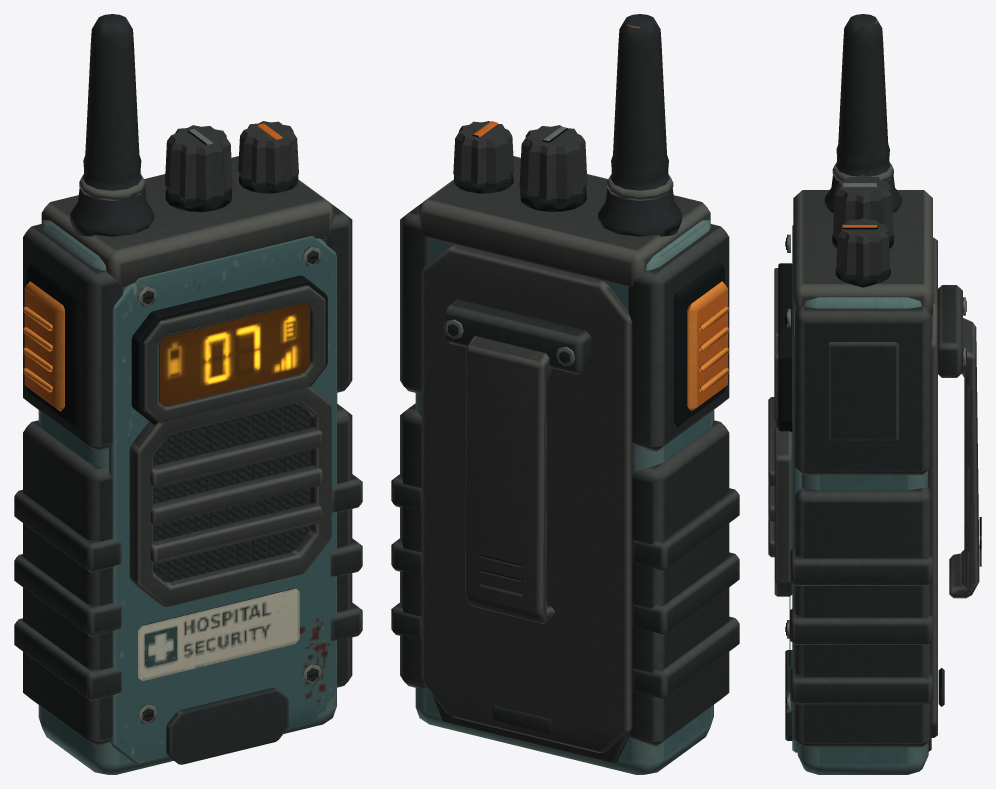
File: hospital_radio.glb
The picture shows the model from 3 angles, left to right: view 1: azimuth 30°, elevation 25°; view 2: azimuth 150°, elevation 25°; view 3: azimuth 270°, elevation 25°; orthographic projection. The views are drawn at different scales.
Parts seen in each view (by area): view 1: RadioBody; view 2: RadioBody, BeltClip; view 3: RadioBody, BeltClip.
Part boxes in pixels (x1,y1,x2,y2): RadioBody: (14,14,362,774); RadioBody: (391,14,739,774); BeltClip: (444,299,591,623); RadioBody: (768,14,944,774); BeltClip: (938,285,981,598).
Size of the model in its own units: 0.1037 by 0.25 by 0.0717.
1 material, 1 textured.
